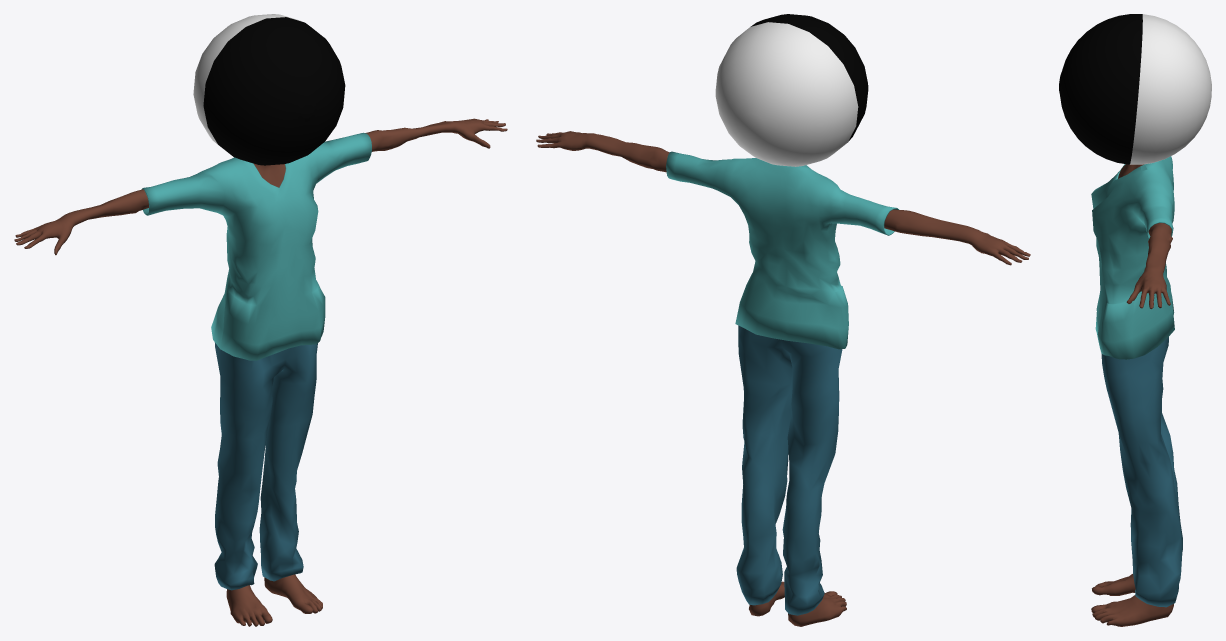
The model's file is Eyeball_Patient.obj.
3 renders of one model, left to right at view 1: azimuth 30°, elevation 25°; view 2: azimuth 150°, elevation 25°; view 3: azimuth 270°, elevation 25°, orthographic.
Visible parts, largest first — view 1: ZombieWoman_Scrubs:Tops, ZombieWoman_Scrubs:Bottoms, pSphere1, ZombieWoman_Scrubs:Body; view 2: ZombieWoman_Scrubs:Bottoms, ZombieWoman_Scrubs:Tops, pSphere1, ZombieWoman_Scrubs:Body; view 3: pSphere1, ZombieWoman_Scrubs:Bottoms, ZombieWoman_Scrubs:Tops, ZombieWoman_Scrubs:Body.
Part boxes in pixels (x1,y1,x2,y2): ZombieWoman_Scrubs:Tops: (141, 132, 371, 360); ZombieWoman_Scrubs:Bottoms: (214, 343, 317, 590); pSphere1: (193, 14, 345, 165); ZombieWoman_Scrubs:Body: (14, 118, 507, 626); ZombieWoman_Scrubs:Bottoms: (736, 325, 842, 615); ZombieWoman_Scrubs:Tops: (666, 151, 899, 349); pSphere1: (715, 14, 868, 166); ZombieWoman_Scrubs:Body: (536, 131, 1030, 626); pSphere1: (1059, 14, 1211, 164); ZombieWoman_Scrubs:Bottoms: (1101, 337, 1182, 607); ZombieWoman_Scrubs:Tops: (1091, 156, 1174, 359); ZombieWoman_Scrubs:Body: (1091, 164, 1173, 626).
Size of the model in its own units: 8.12 by 9.33 by 2.2.
